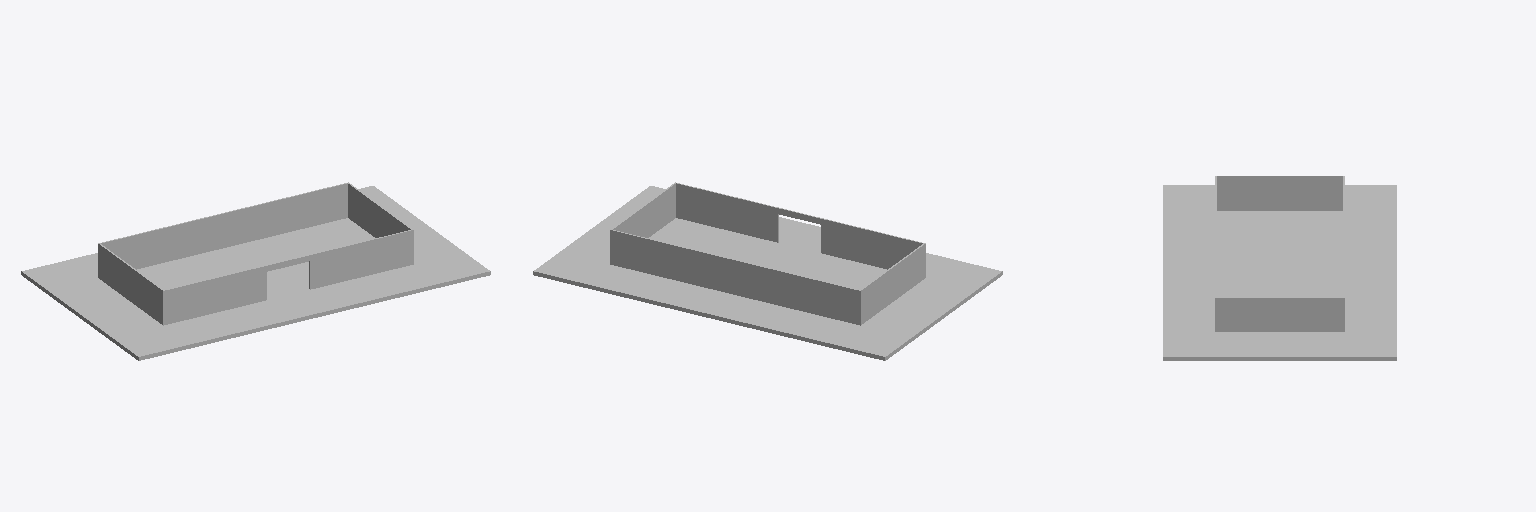
File: Fixed_Building.obj
3 renders of one model, left to right at view 1: azimuth 30°, elevation 25°; view 2: azimuth 150°, elevation 25°; view 3: azimuth 270°, elevation 25°, orthographic.
Visible parts, largest first — view 1: Cube.002_Cube.007; view 2: Cube.002_Cube.007; view 3: Cube.002_Cube.007.
Boxes of the visible parts, x1,y1,x2,y2 form: Cube.002_Cube.007: [21, 182, 490, 360]; Cube.002_Cube.007: [533, 182, 1002, 360]; Cube.002_Cube.007: [1163, 176, 1396, 360].
Size of the model in its own units: 61.9 by 6.5 by 35.7.